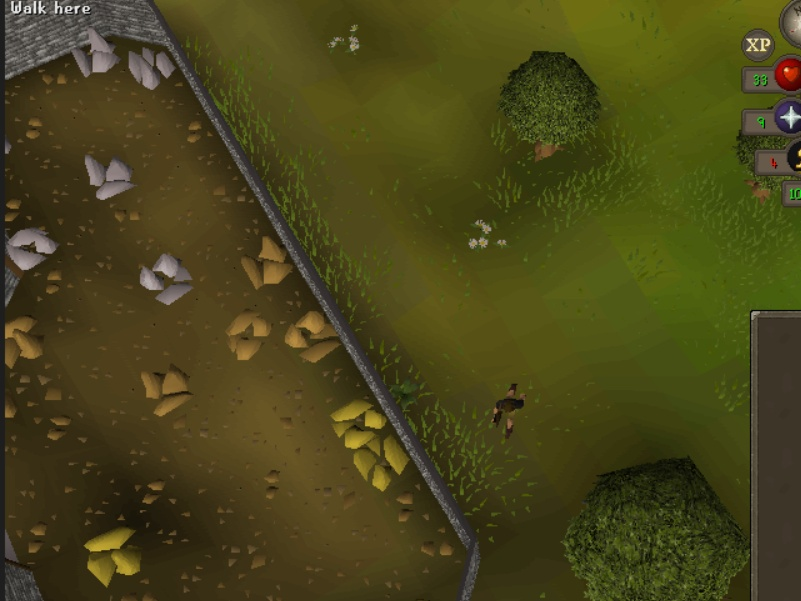clay: (238, 236, 300, 290), (283, 307, 345, 361), (217, 308, 279, 362), (138, 364, 200, 418), (1, 312, 62, 366)
gold: (325, 392, 388, 450), (348, 433, 411, 491), (85, 528, 148, 586)
silver: (64, 25, 126, 78), (137, 249, 199, 302), (119, 41, 181, 94), (81, 149, 143, 202), (1, 222, 62, 275)
